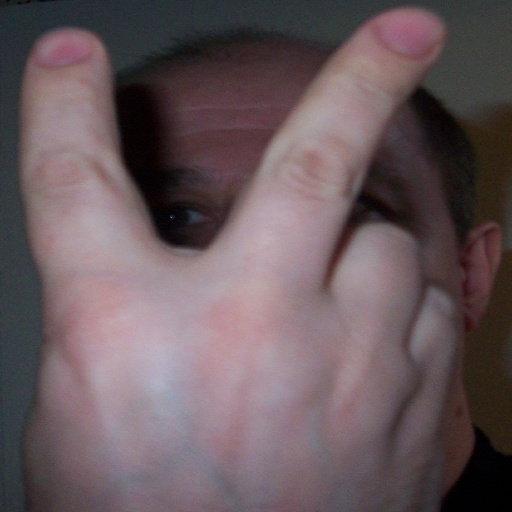hand: (17, 0, 462, 511)
